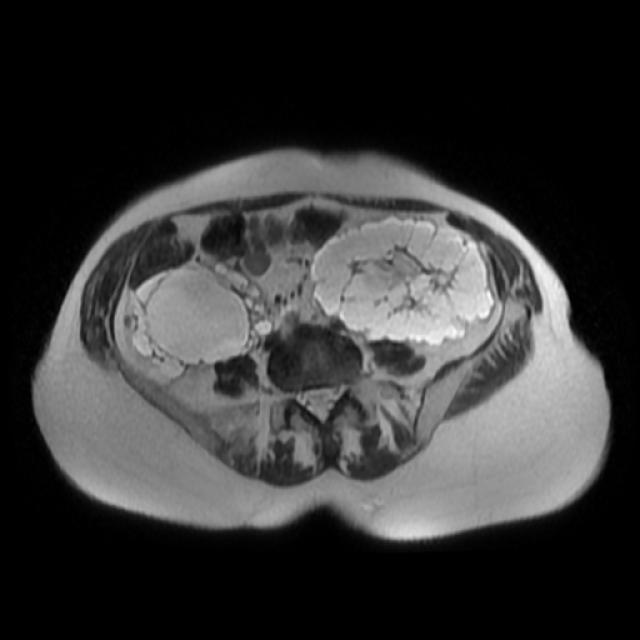sag: (122, 249, 272, 382)
sol: (307, 213, 495, 345)
